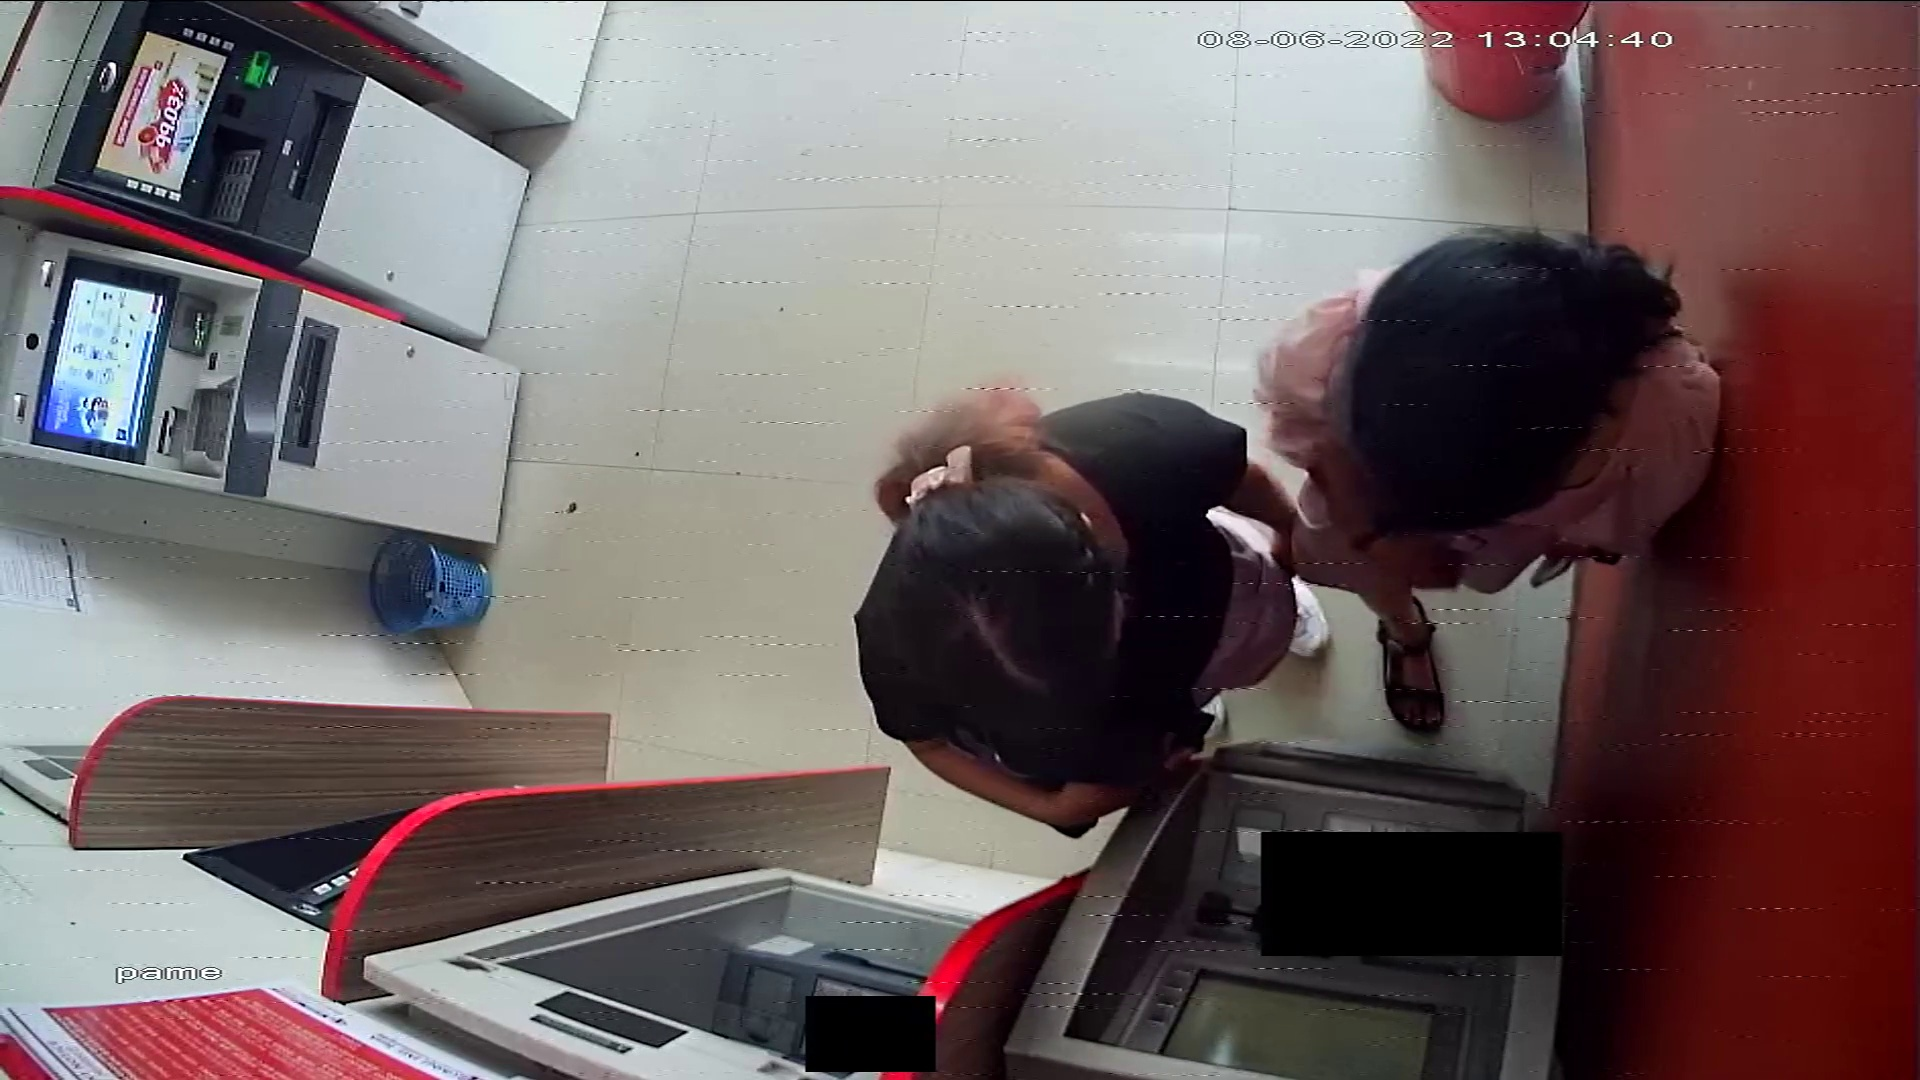person: (1254, 225, 1722, 736), (852, 381, 1326, 836)
